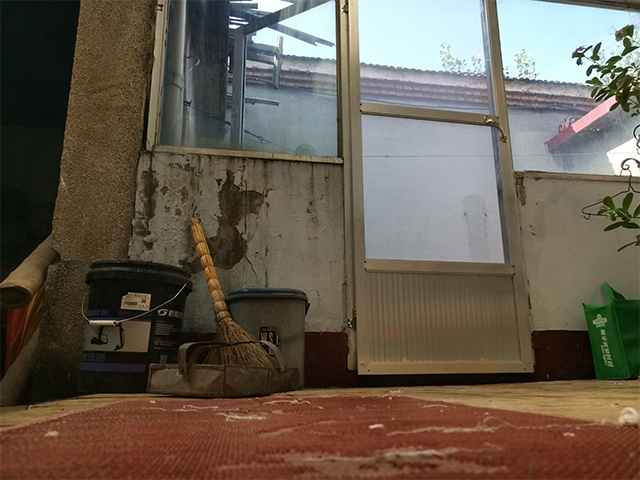carpet: (1, 391, 640, 480)
trashcan: (223, 284, 310, 393)
